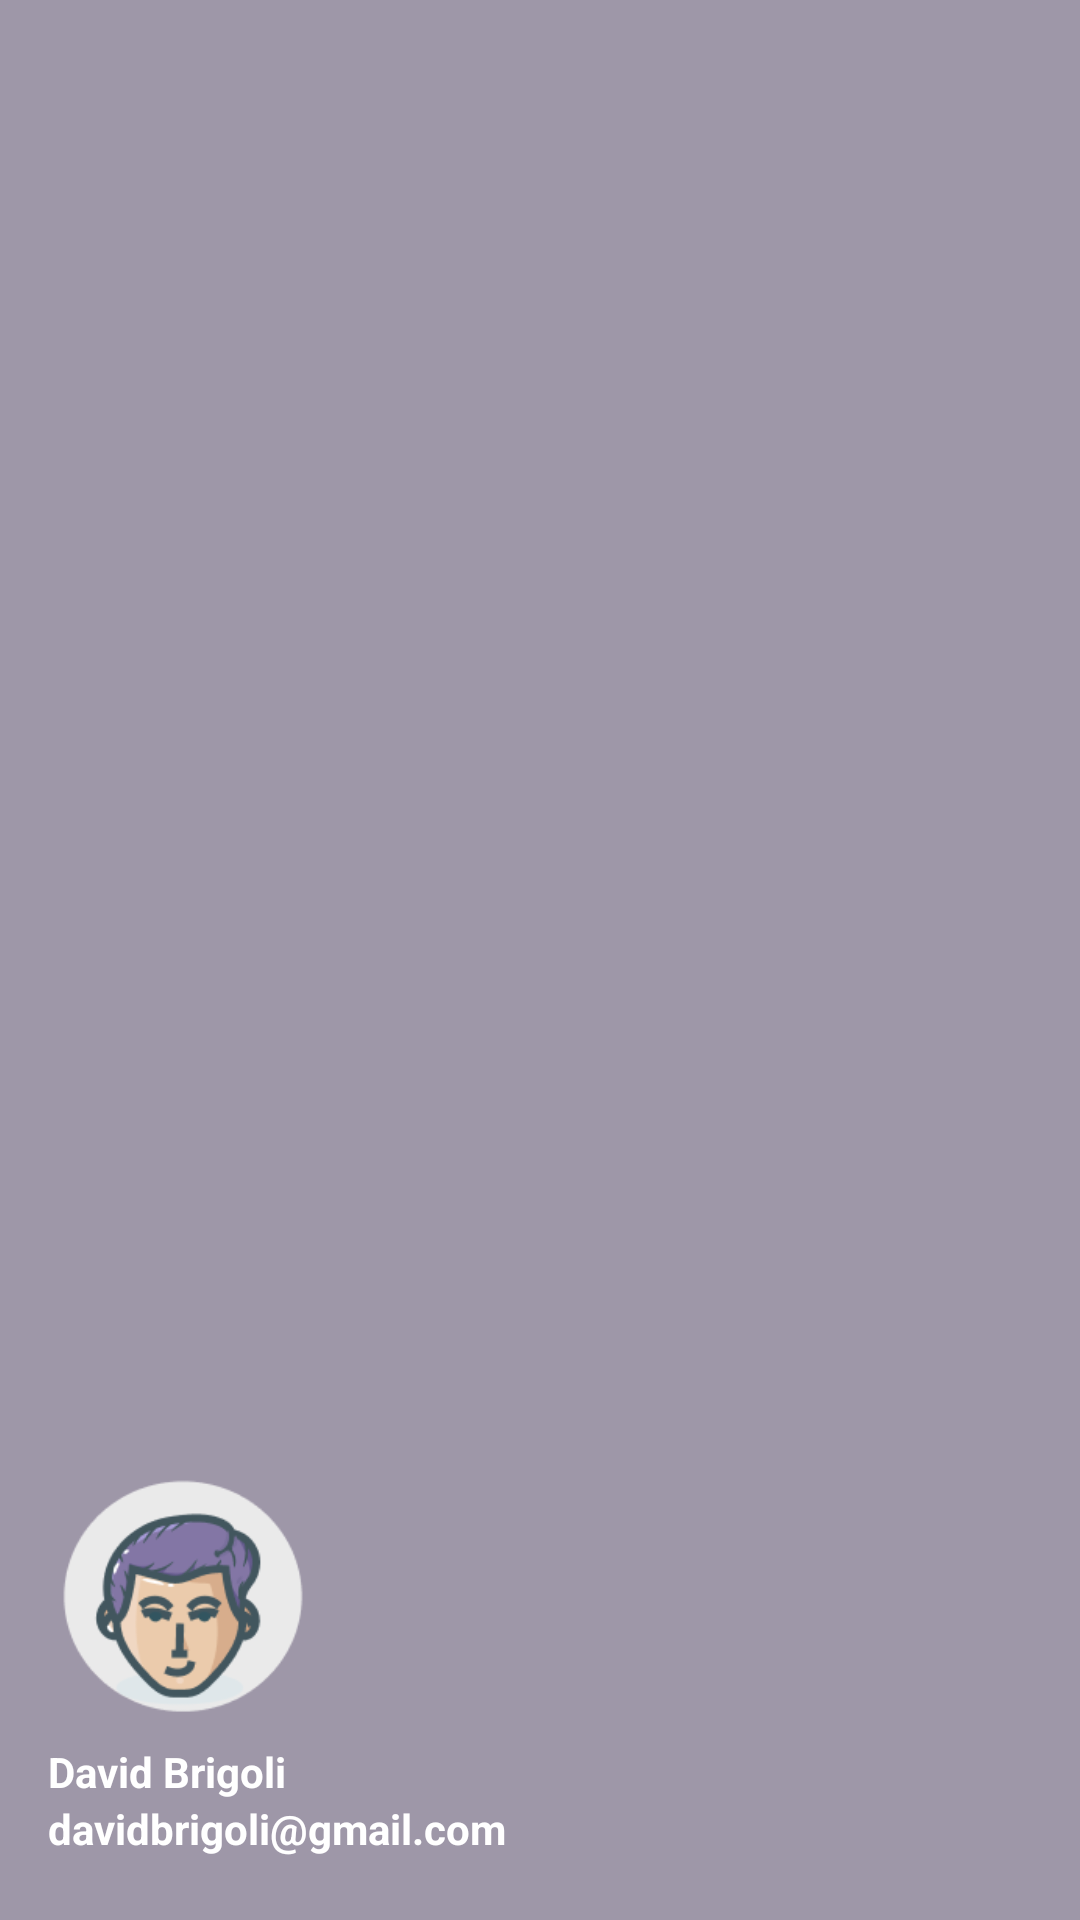

Where icons sit on this 1080px×1920px app screen, as (x1, y1, x2, y2):
navprofileicon: (64, 1481, 302, 1712)
